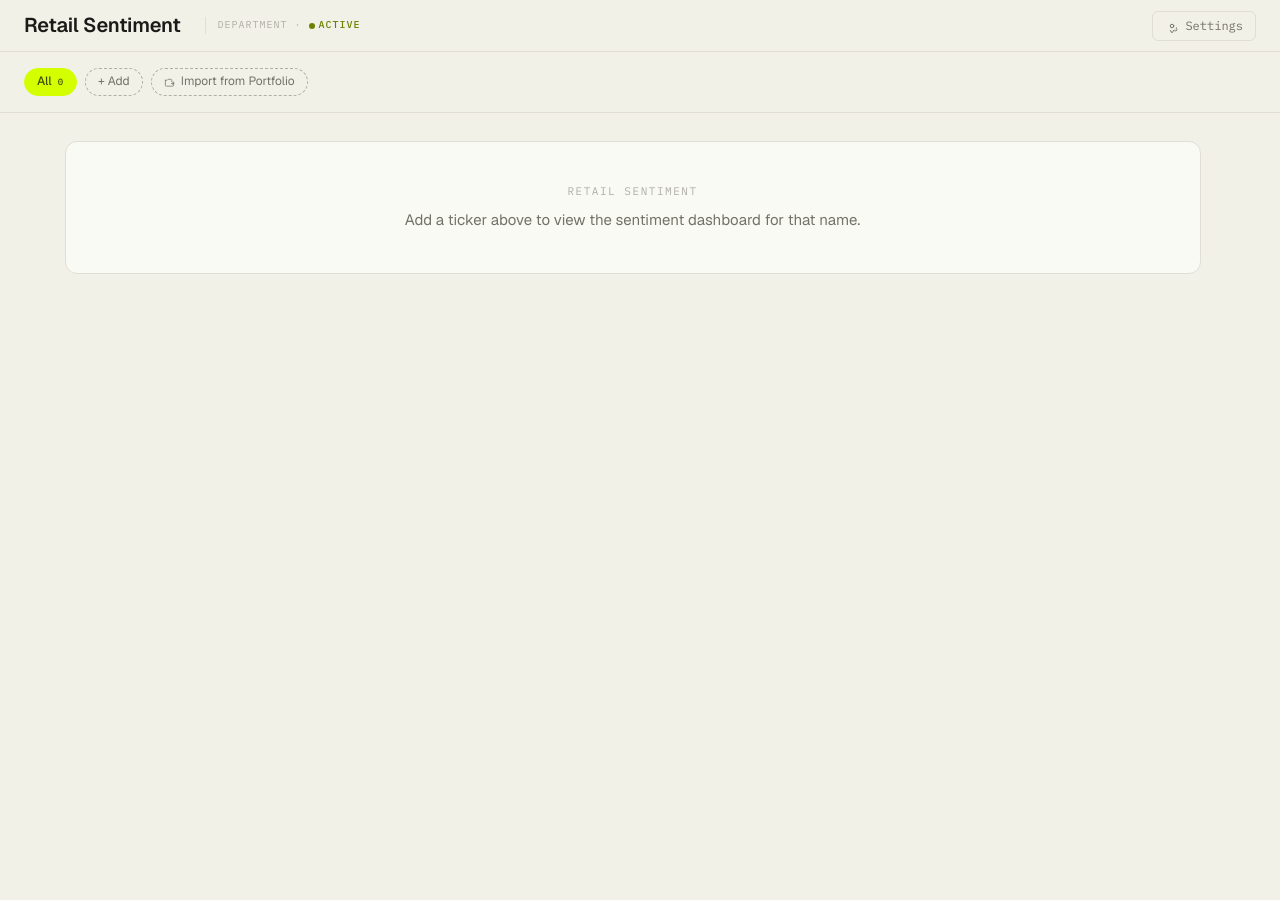
Test: RetailSentiment page › renders signals section
Click the button with test id "ticker-add-button" at (114, 82), box [85,68,143,96]
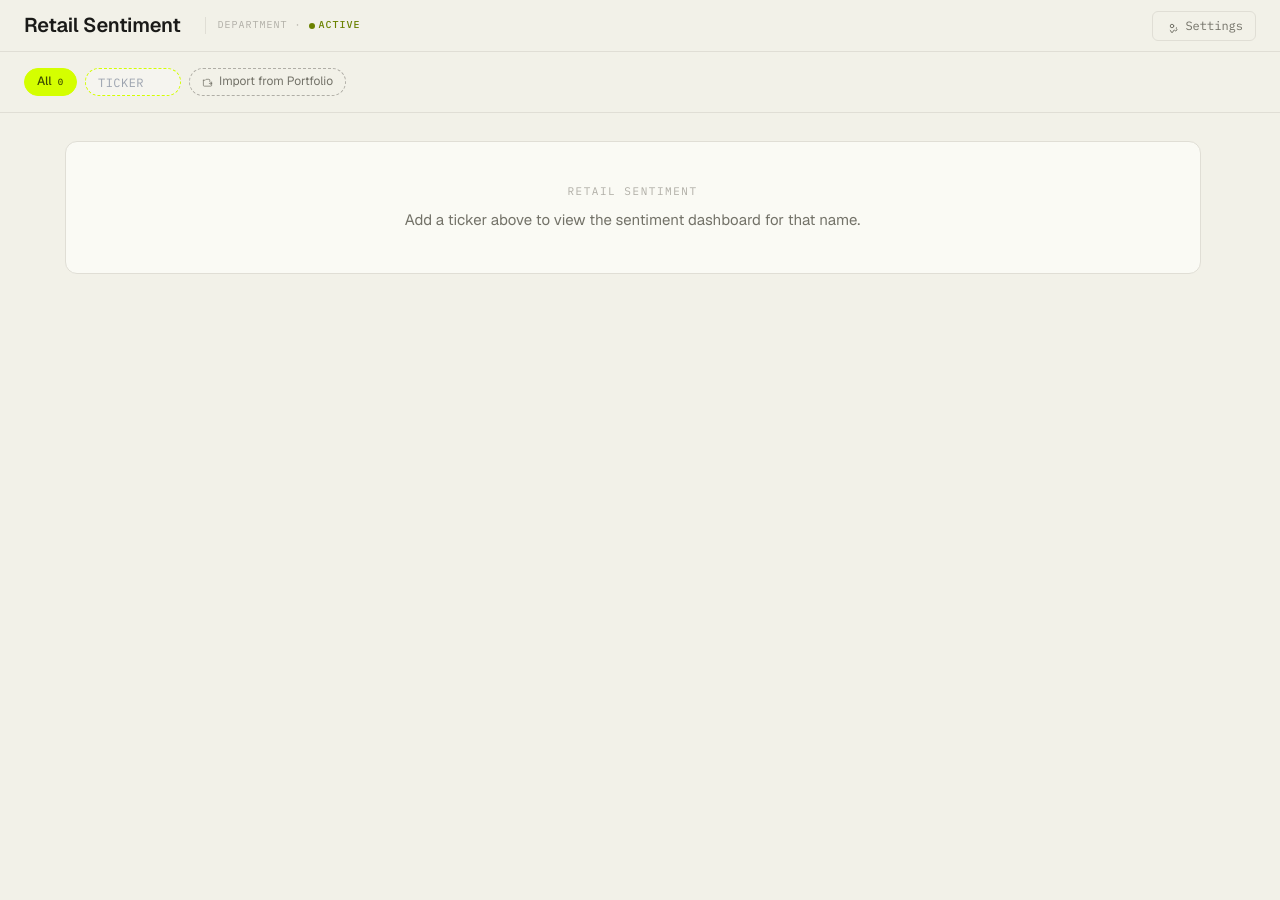
Type "AAPL" into the field with test id "ticker-add-input" at (133, 82), box [85,68,181,96]
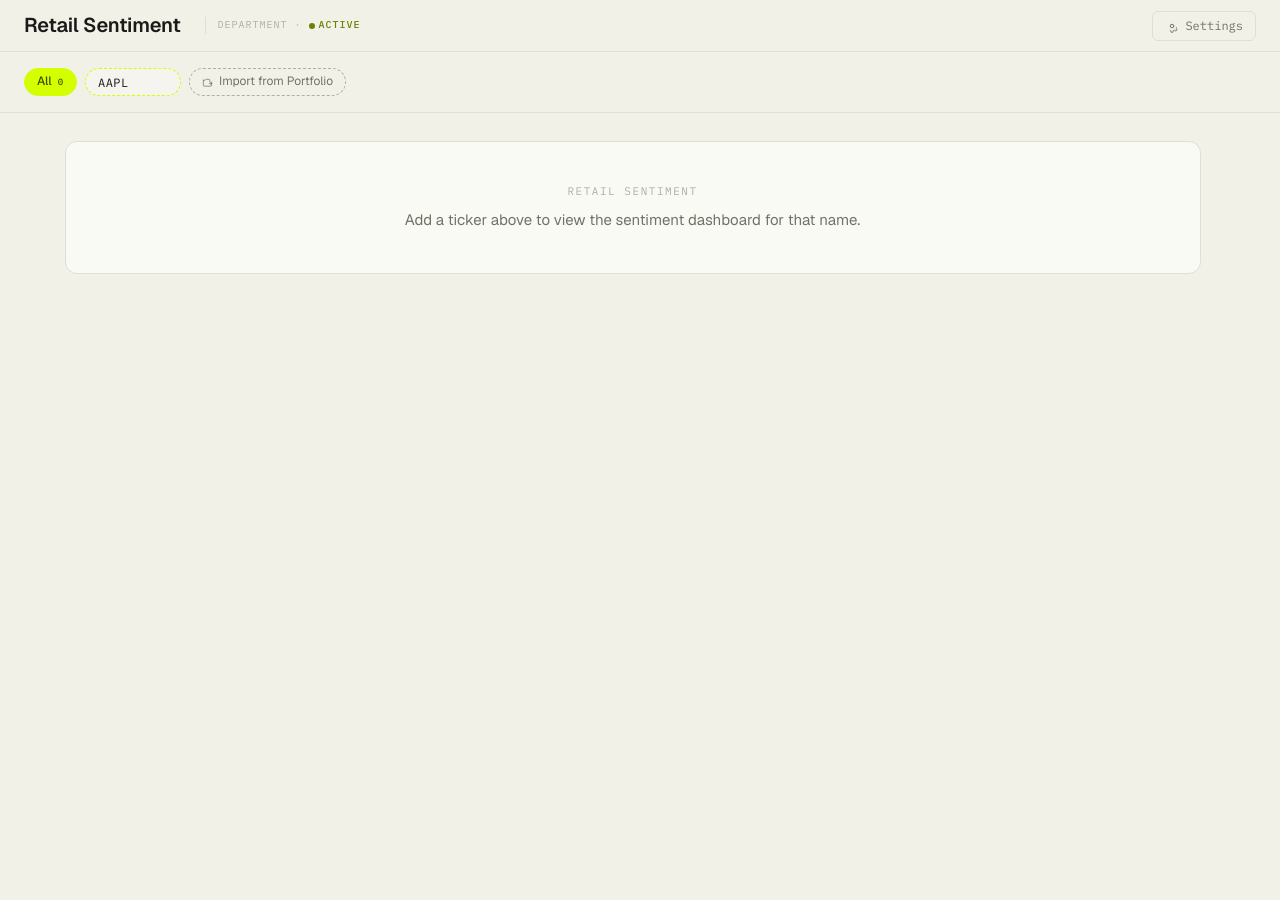
Press Enter in the field with test id "ticker-add-input", box [85,68,181,96]
(page scrolled)
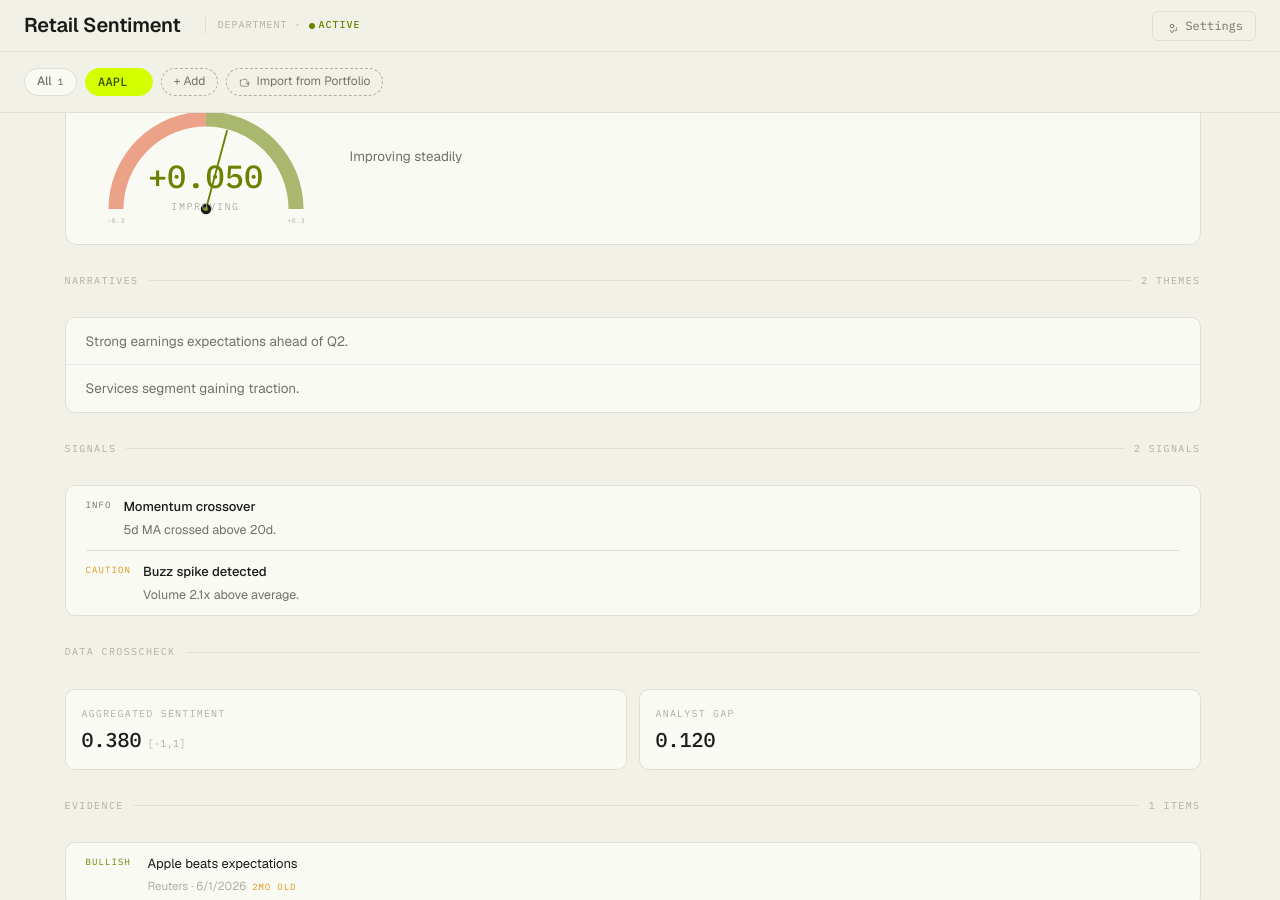
Now the list with test id "rs-signals" is shown, box [64,485,1200,616]
Now the text "Momentum crossover" is shown, box [123,496,276,518]
